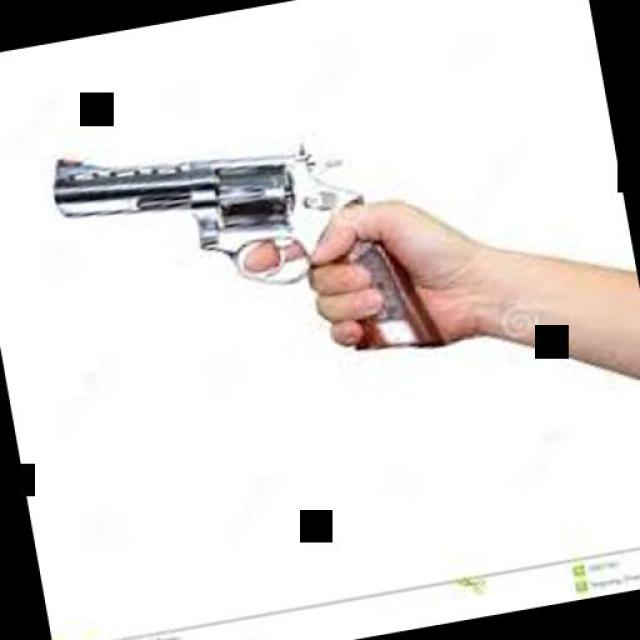gun: (42, 91, 438, 410)
